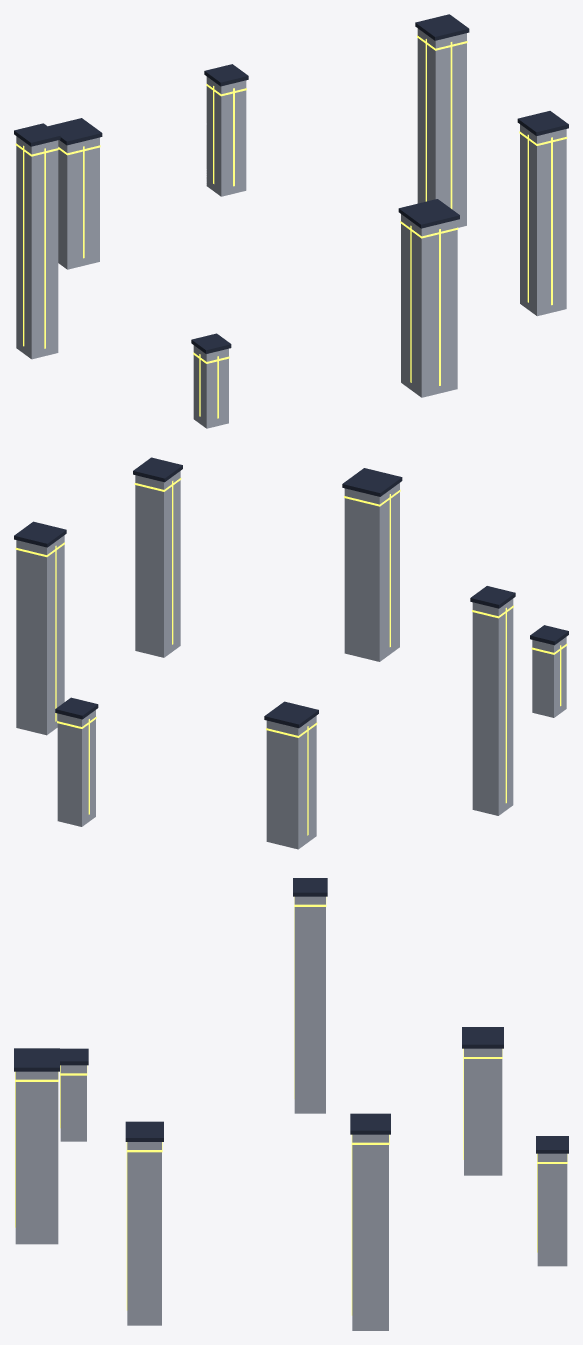
The picture shows the model from 3 angles, top to bottom: view 1: azimuth 30°, elevation 25°; view 2: azimuth 150°, elevation 25°; view 3: azimuth 270°, elevation 25°; orthographic projection. The views are drawn at different scales.
Parts seen in each view (by area): view 1: nexo_spires_taller.lod1; view 2: nexo_spires_taller.lod1; view 3: nexo_spires_taller.lod1.
Part boxes in pixels (<box>): nexo_spires_taller.lod1: <box>14,14,568,428</box>; nexo_spires_taller.lod1: <box>14,457,568,849</box>; nexo_spires_taller.lod1: <box>14,878,568,1330</box>.
Size of the model in its own units: 25.19 by 11.22 by 25.46.
